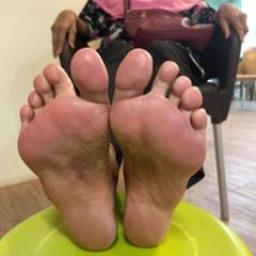Plantar View -Both Feet-: (4, 40, 228, 254)
